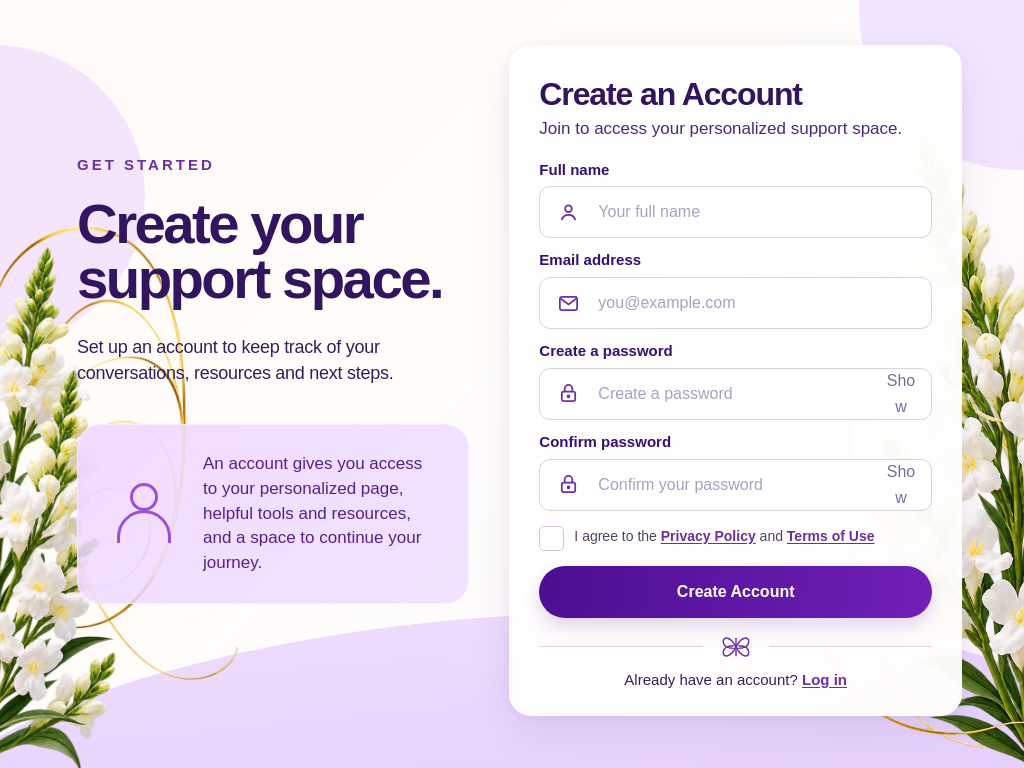
Test case: Signup page › shows friendly message when backend is down
Type "Jane Doe" into the field labelled "Full name". click: (736, 212)
box: [539,186,932,238]
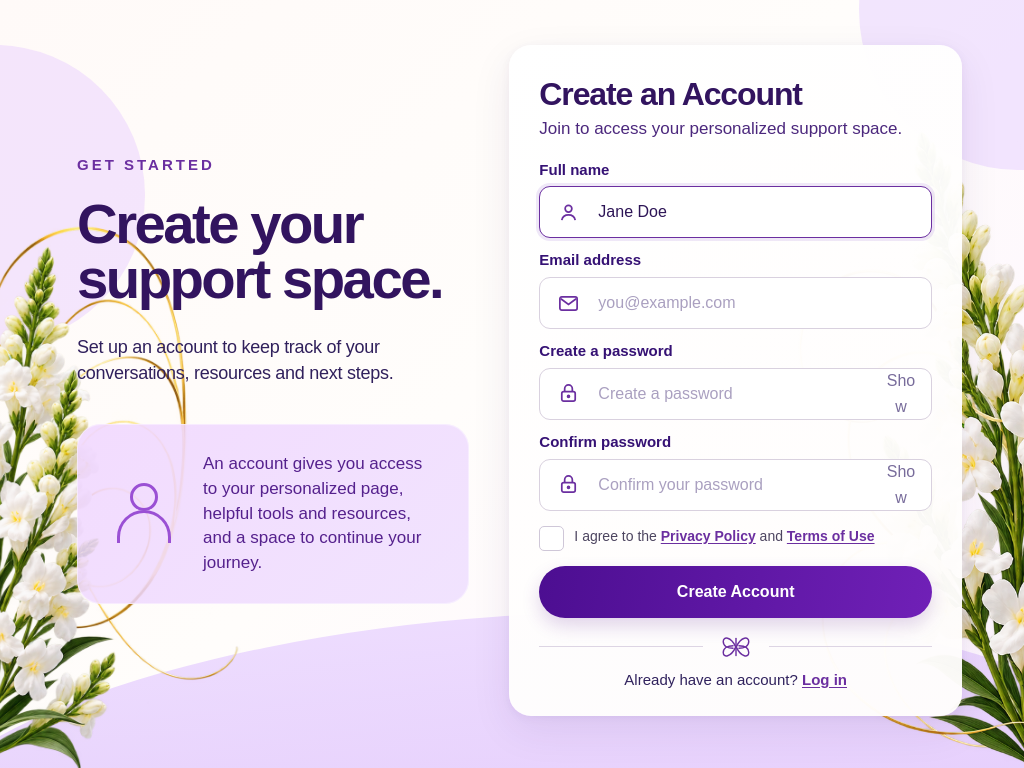
Type "jane@mail.com" into the field labelled "Email address". click: (736, 303)
box: [539,277,932,329]
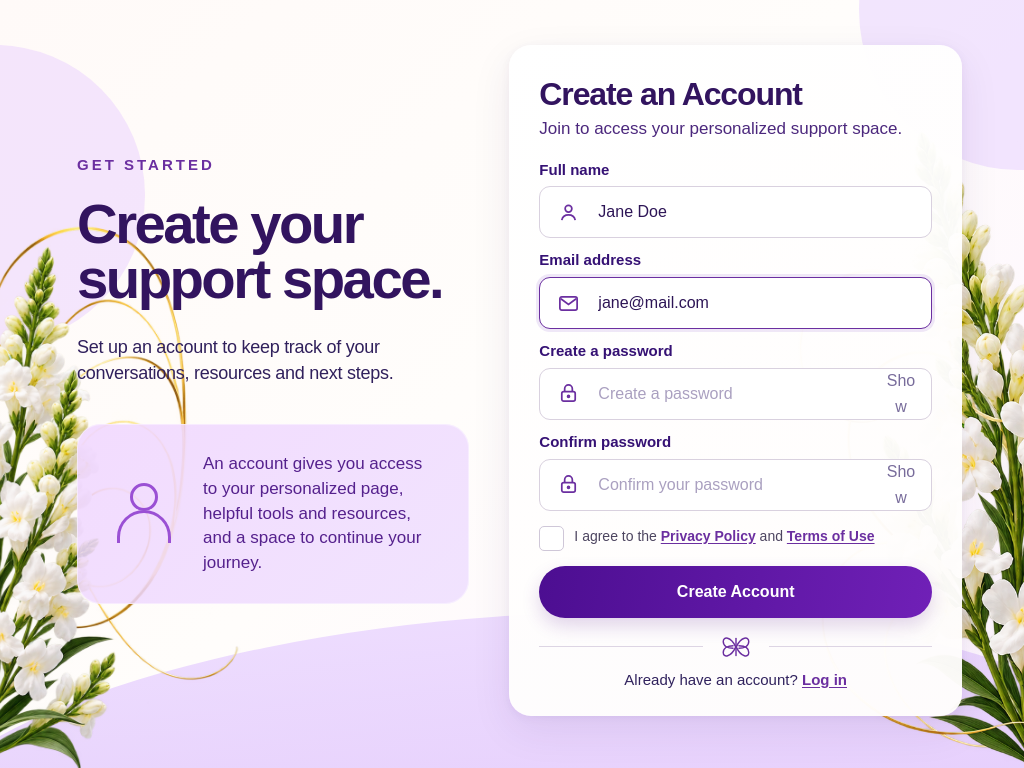
Type "Password123" into the password field labelled "Create a password". click: (736, 394)
box: [539,368,932,420]
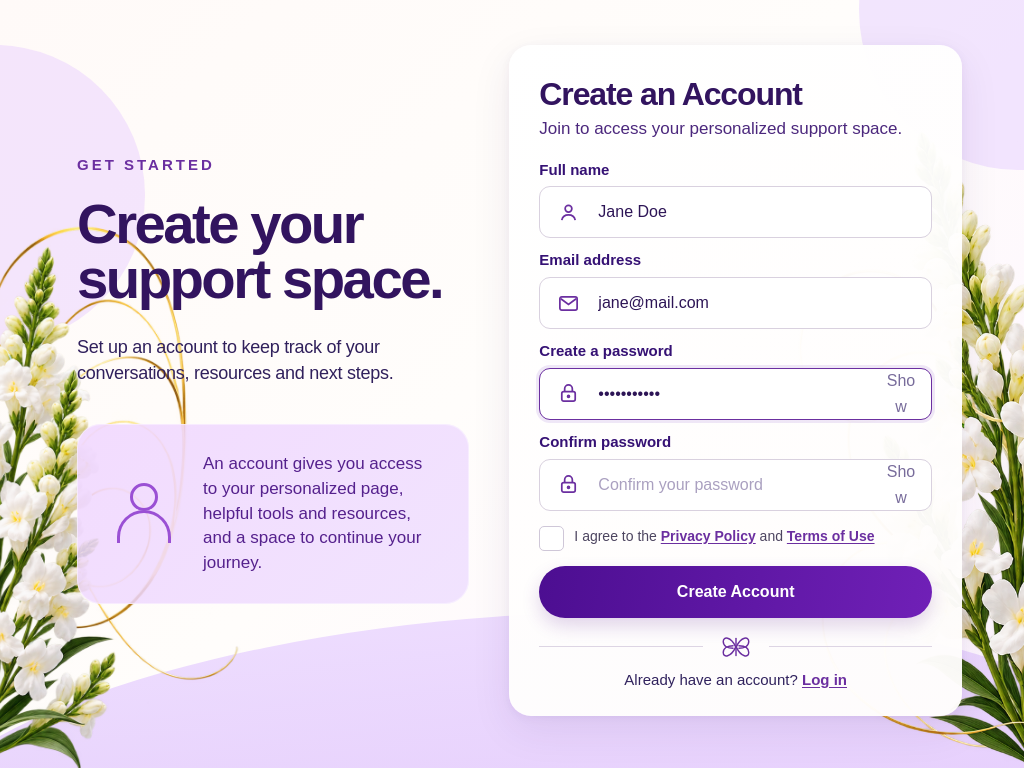
Type "Password123" into the password field labelled "Confirm password". click: (736, 485)
box: [539,459,932,511]
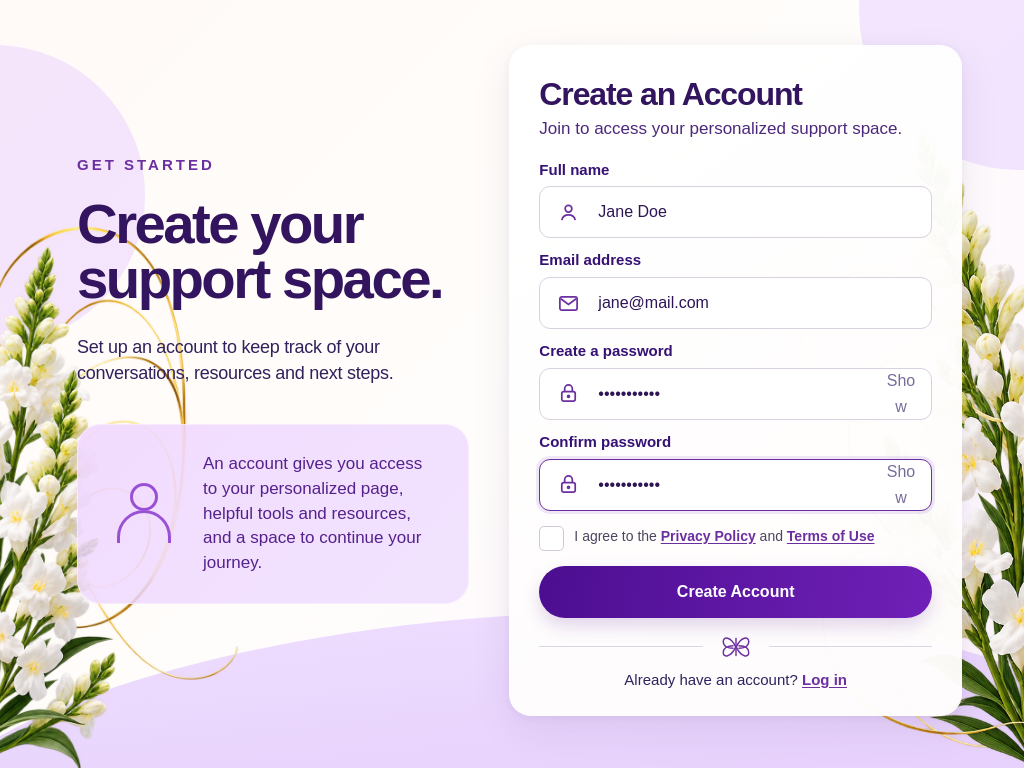
Click the checkbox. click: (736, 538)
box: [539,526,932,551]
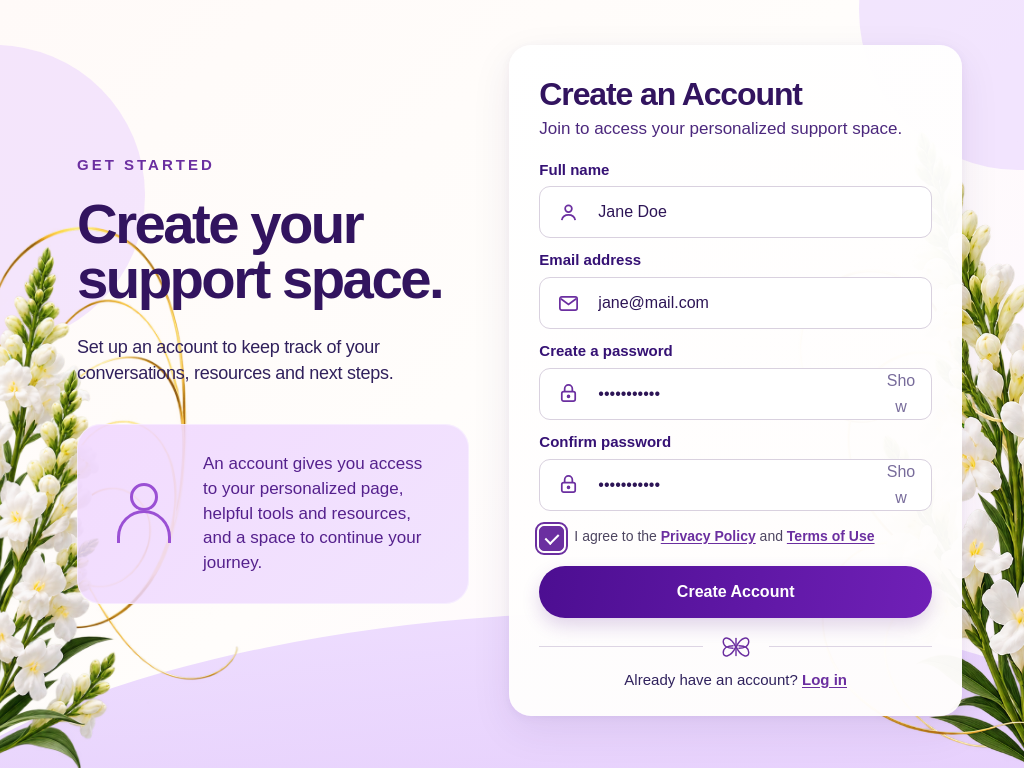
Click the button "Create Account". click: (736, 592)
box: [539,566,932,618]
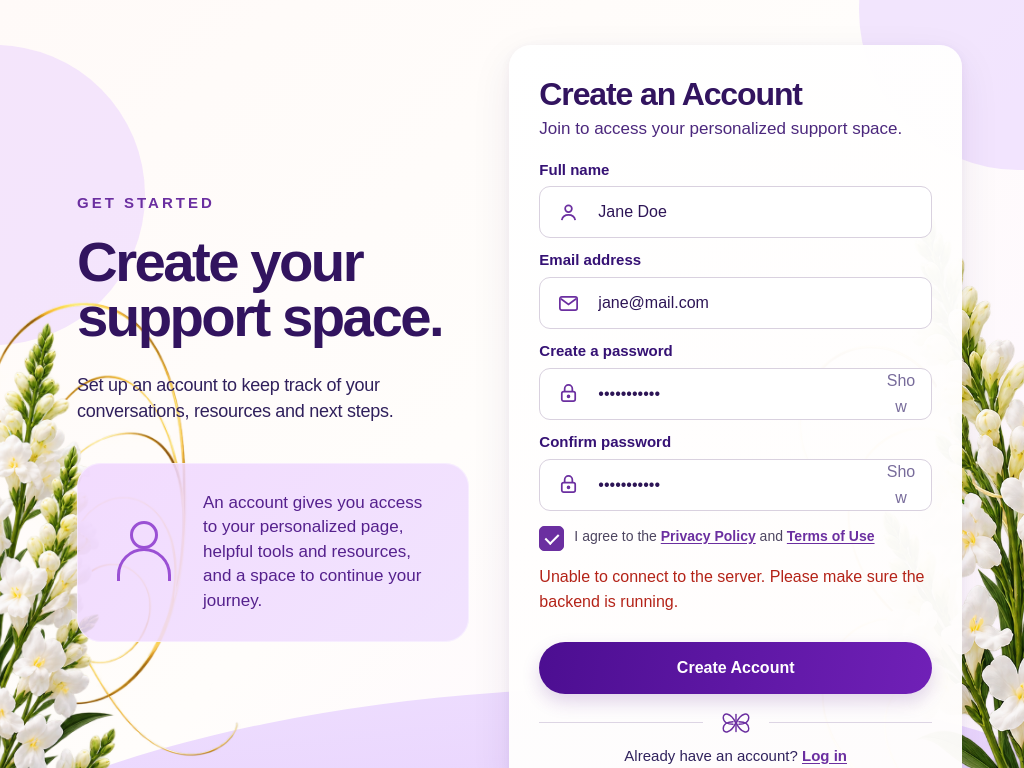
Result: the message shows "Unable to connect to the server" at [539,568,924,610]
